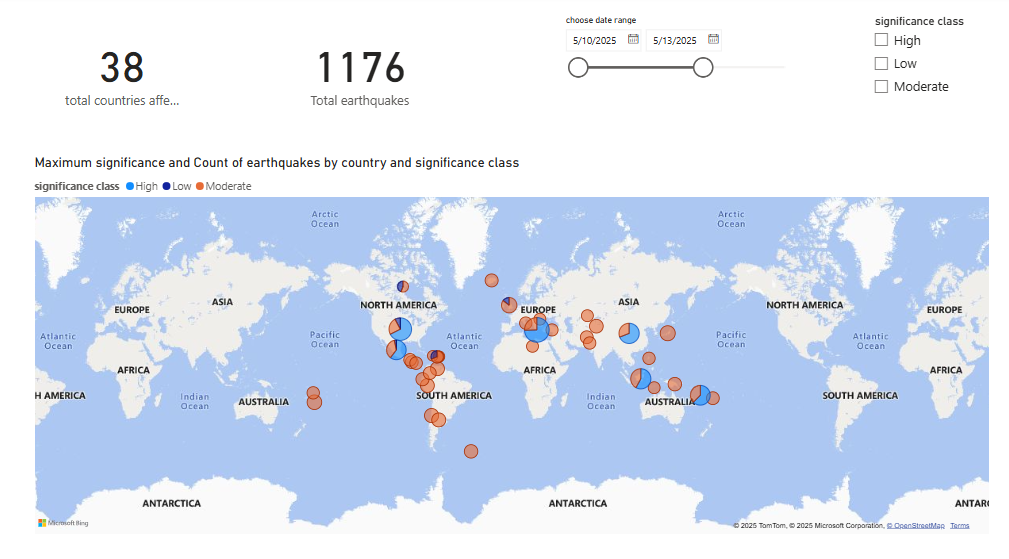

Layout of this report page (visuals, bound fields, positions):
{"tool":"powerbi","page":{"name":"Page 1","canvas":[1280,720],"ordinal":0},"visuals":[{"type":"map","fields":{"Category":["earthquake_events_gold.country_code"],"Size":["Max(earthquake_events_gold.sig)"],"Series":["earthquake_events_gold.sig_class"]},"box":[39.7,202.2,1213.2,483.8],"z":0},{"type":"slicer","fields":{"Values":["earthquake_events_gold.time"]},"box":[701.1,20.8,311.8,149.3],"z":1},{"type":"slicer","fields":{"Values":["earthquake_events_gold.sig_class"]},"box":[1090.4,20.8,175.7,149.3],"z":2},{"type":"card","fields":{"Values":["Count(earthquake_events_gold.country_code)"]},"box":[77.5,20.8,155,149.3],"z":3},{"type":"card","fields":{"Values":["Count(earthquake_events_gold.id)"]},"box":[298.6,20.8,311.8,149.3],"z":4}]}

Visuals, with their boxes in screenshot pixels (x1, y1, x2, y2), scaled from the page's 1280x720 canvas onto the 1009x559 screenshot:
map - earthquake_events_gold.country_code x Max(earthquake_events_gold.sig): Rect(31, 157, 988, 533)
slicer - earthquake_events_gold.time: Rect(553, 16, 798, 132)
slicer - earthquake_events_gold.sig_class: Rect(860, 16, 998, 132)
card - Count(earthquake_events_gold.country_code): Rect(61, 16, 183, 132)
card - Count(earthquake_events_gold.id): Rect(235, 16, 481, 132)
